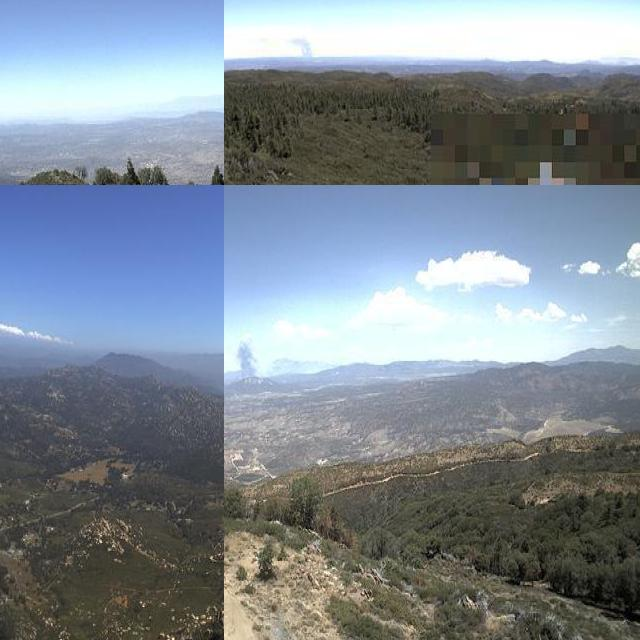smoke: (231, 334, 261, 382), (284, 32, 321, 66)
